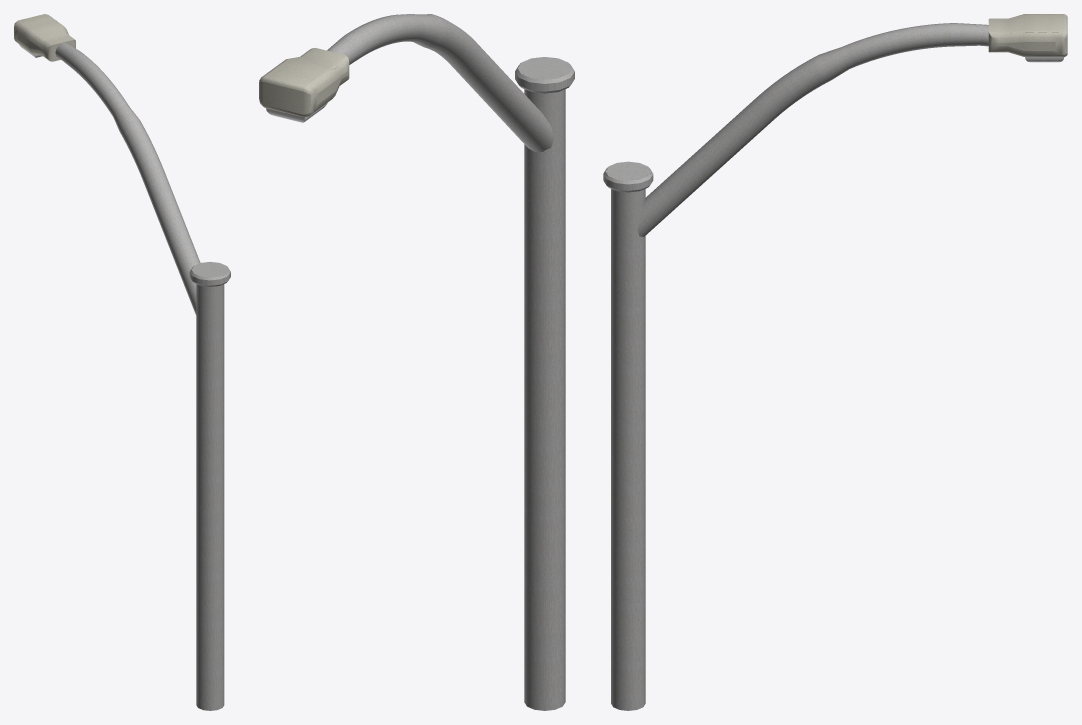
File: StreetLight02.fbx
The picture shows the model from 3 angles, left to right: view 1: azimuth 30°, elevation 25°; view 2: azimuth 150°, elevation 25°; view 3: azimuth 270°, elevation 25°; orthographic projection. The views are drawn at different scales.
Parts seen in each view (by area): view 1: LampPost, Cylinder, Cube; view 2: LampPost, Cylinder, Cube; view 3: LampPost, Cylinder, Cube.
Part boxes in pixels (x1=…): LampPost: x1=189, y1=261, x2=230, y2=710; Cylinder: x1=55, y1=43, x2=200, y2=315; Cube: x1=14, y1=14, x2=75, y2=61; LampPost: x1=515, y1=57, x2=574, y2=710; Cylinder: x1=327, y1=14, x2=554, y2=151; Cube: x1=259, y1=48, x2=349, y2=122; LampPost: x1=603, y1=161, x2=653, y2=710; Cylinder: x1=637, y1=23, x2=988, y2=236; Cube: x1=988, y1=14, x2=1067, y2=62.
Size of the model in its own units: 72.51 by 1046 by 647.
3 materials, 3 textured.
